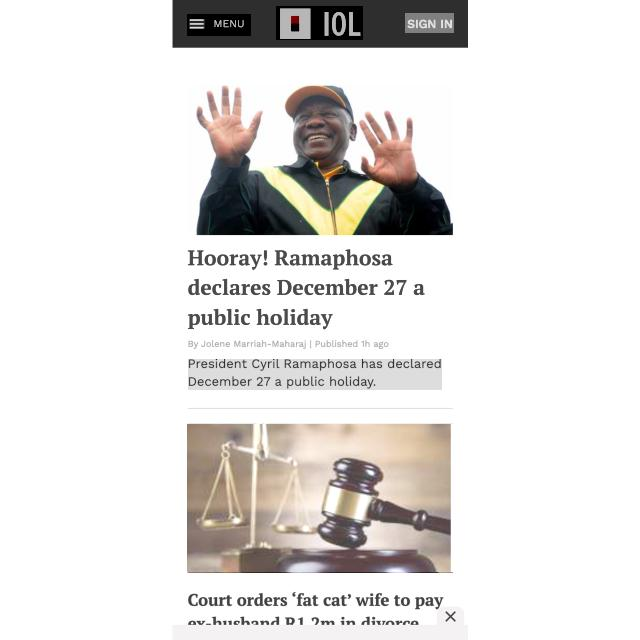CheckBox: (405, 13, 454, 33)
Input field: (188, 359, 442, 392)
bag: (172, 0, 468, 48)
carousel: (189, 19, 205, 29)
copy: (187, 424, 453, 572)
date picker: (276, 6, 363, 40)
decoration: (187, 14, 251, 36)
image: (188, 248, 425, 330)
